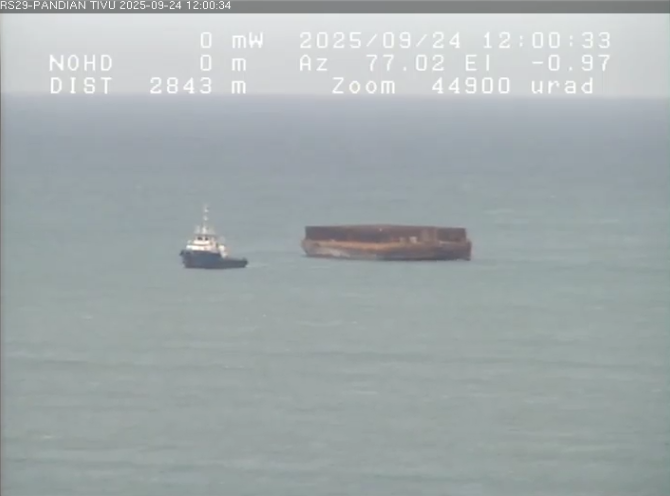BARGE: (288, 191, 494, 289)
OFFSHORE_SUPPLY_VESSEL: (160, 187, 274, 285)
TOWING: (139, 152, 528, 318)
